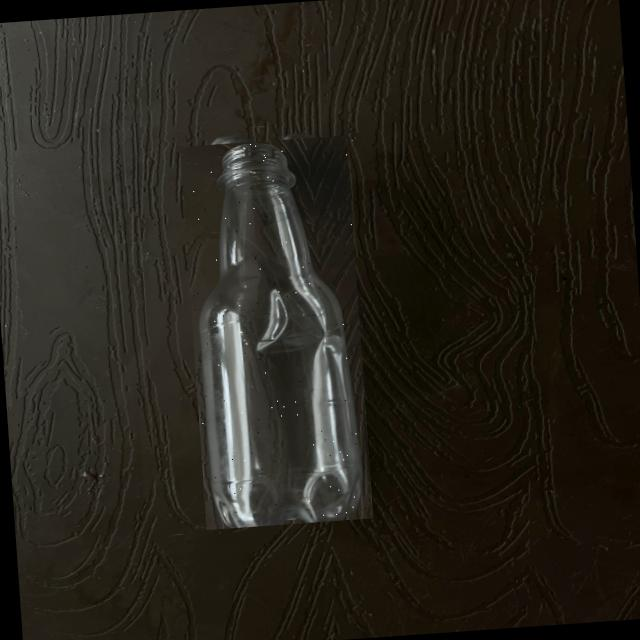PET_ClearBottle: (178, 134, 372, 528)
